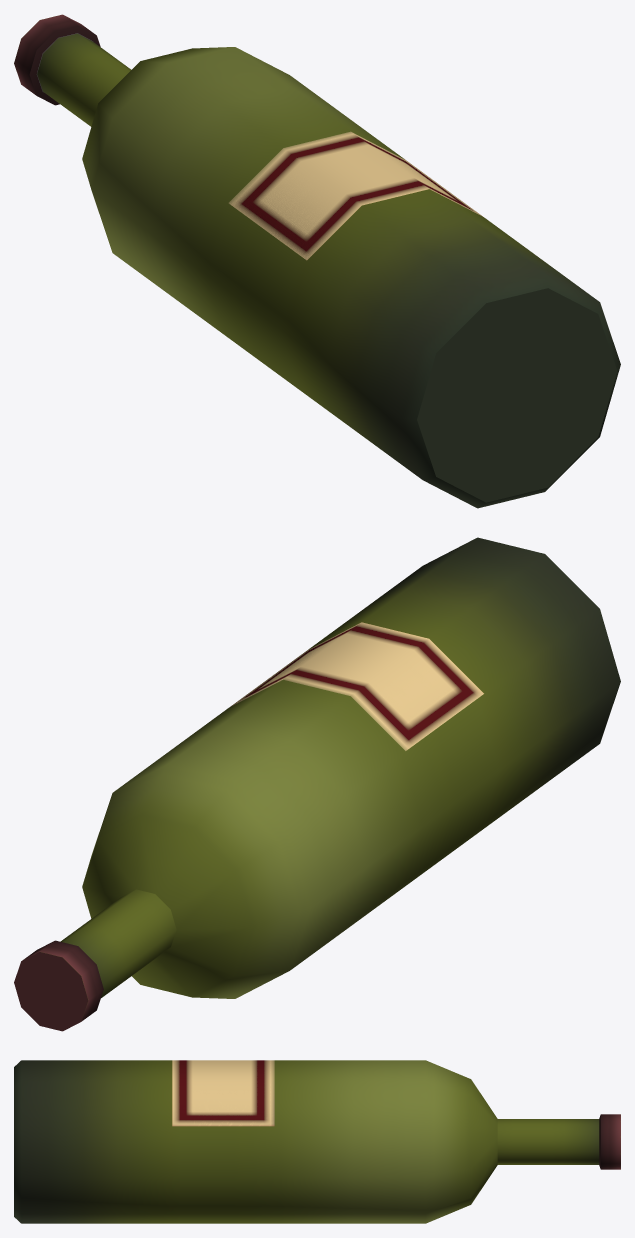
Rendered from Wine_Bottle.fbx.
3 renders of one model, top to bottom at view 1: azimuth 30°, elevation 25°; view 2: azimuth 150°, elevation 25°; view 3: azimuth 270°, elevation 25°, orthographic. The views are drawn at different scales.
Visible parts, largest first — view 1: Wine_Bottle; view 2: Wine_Bottle; view 3: Wine_Bottle.
Part boxes in pixels (x1,y1,x2,y2): Wine_Bottle: (14, 14, 620, 508); Wine_Bottle: (14, 537, 620, 1031); Wine_Bottle: (14, 1060, 620, 1223).
Bounding box in the file's own units: 4.5 × 16.59 × 4.28.
